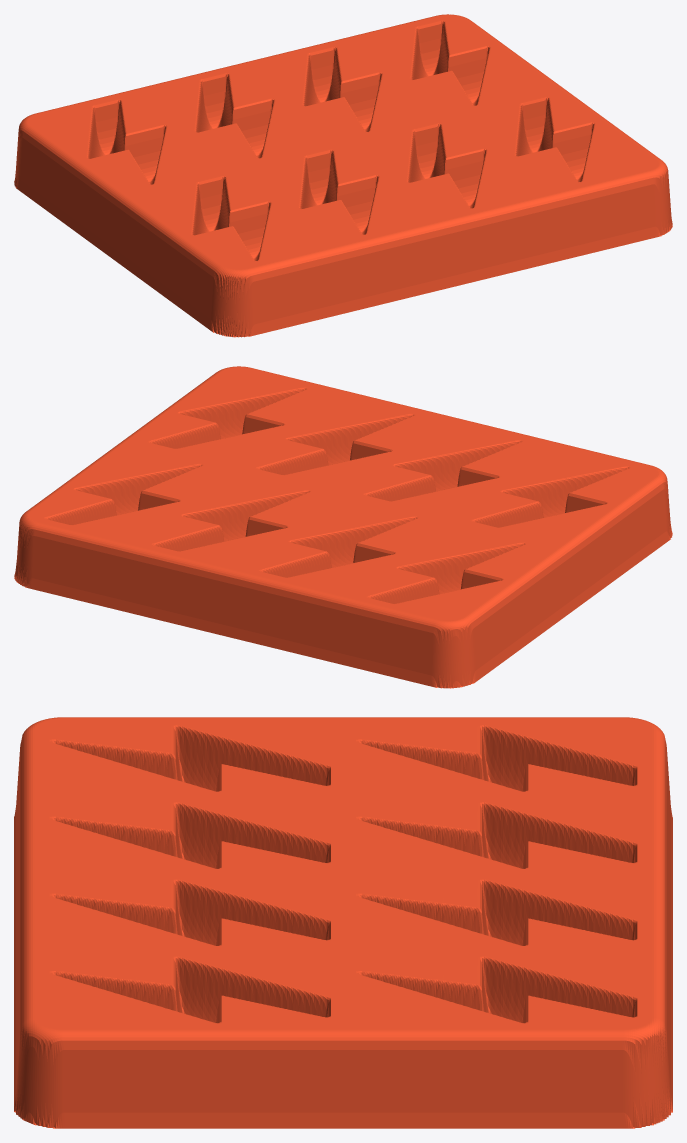
The model's file is mold.glb.
3 renders of one model, top to bottom at view 1: azimuth 30°, elevation 25°; view 2: azimuth 150°, elevation 25°; view 3: azimuth 270°, elevation 25°, orthographic. The views are drawn at different scales.
Visible parts, largest first — view 1: geometry_0; view 2: geometry_0; view 3: geometry_0.
Boxes of the visible parts, x1,y1,x2,y2 form: geometry_0: (14, 14, 672, 337); geometry_0: (14, 366, 672, 688); geometry_0: (14, 717, 672, 1128).
Bounding box in the file's own units: 0.1439 × 0.0185 × 0.1222.
